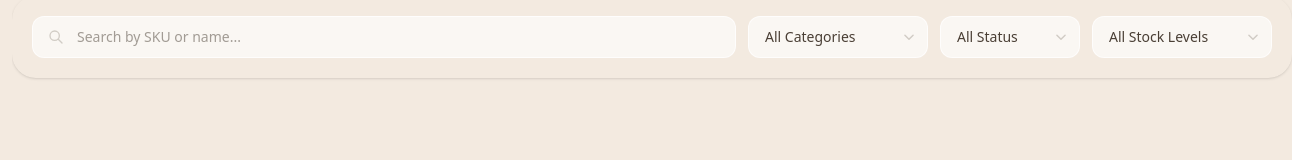
Test case: MaterialFilterBar.vue (Component Testing) › Integration — v-model pattern › [Integration] parent handle update:search
This screenshot has width=1292, height=160.
# Type search
Type "gula" into the field with placeholder "Search by SKU or name..." at {"x": 384, "y": 37}, box [32,16,736,58]
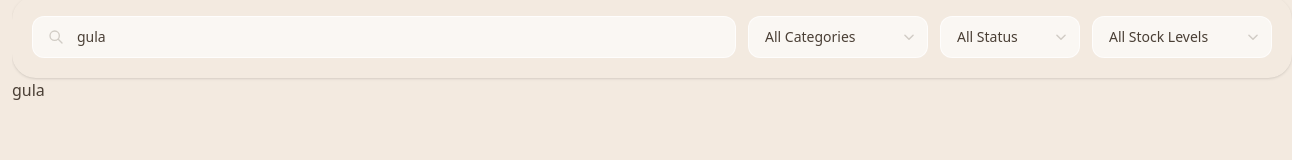
Expected: the text with test id "search" reads "gula", [12,79,45,101]
# Change category
Select "Tea" in the 1st dropdown at {"x": 838, "y": 37}, box [748,16,928,58]
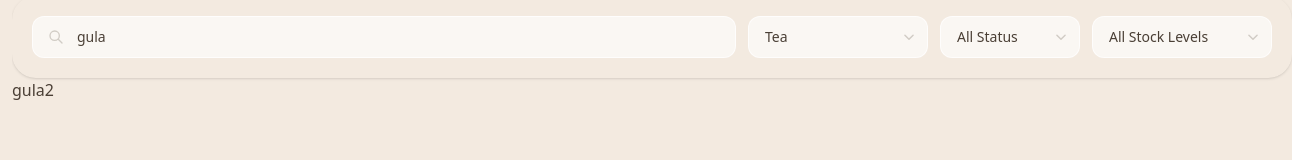
Expected: the text with test id "category" reads "2", [45,79,54,101]
# Change status
Select "Active" in the 2nd dropdown at {"x": 1010, "y": 37}, box [940,16,1080,58]
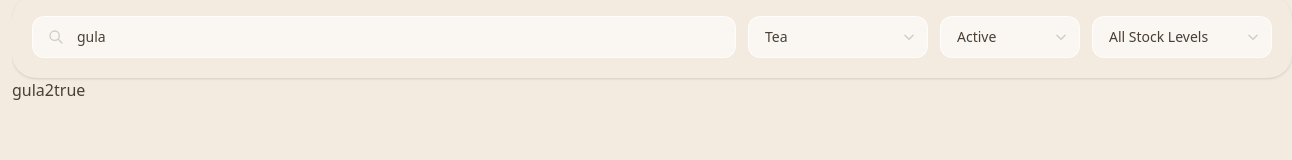
Expected: the text with test id "status" reads "true", [54,79,85,101]
# Change stock
Select "Low Stock Only" in the 3rd dropdown at {"x": 1182, "y": 37}, box [1092,16,1272,58]
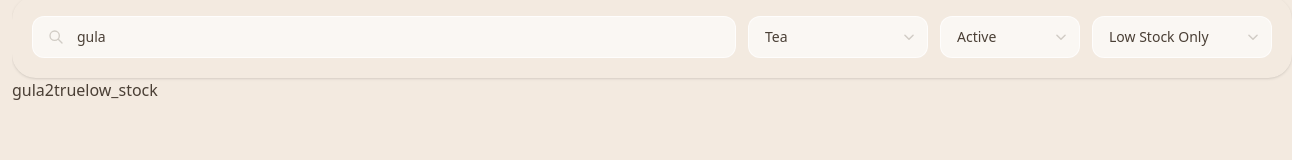
Expected: the text with test id "stock" reads "low_stock", [85,79,158,101]
